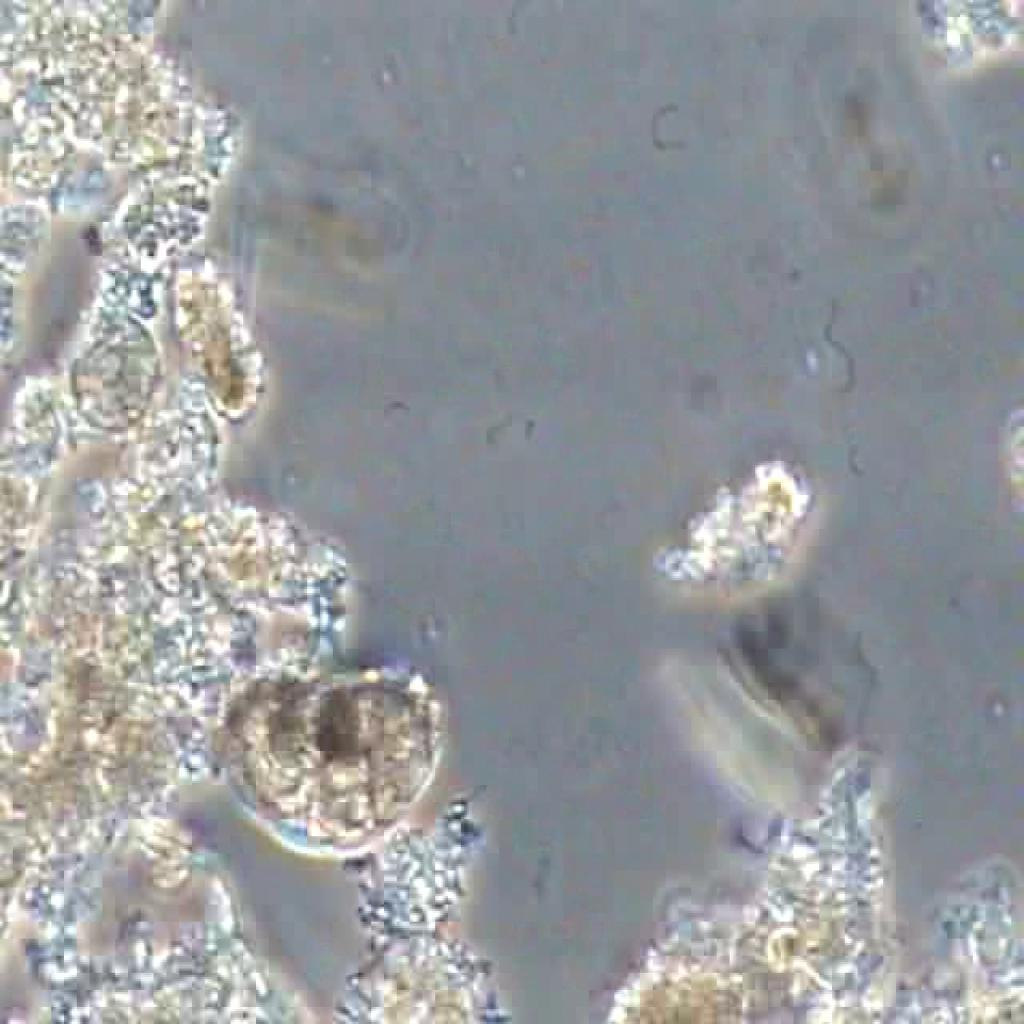Rotatoria: (198, 662, 445, 856)
